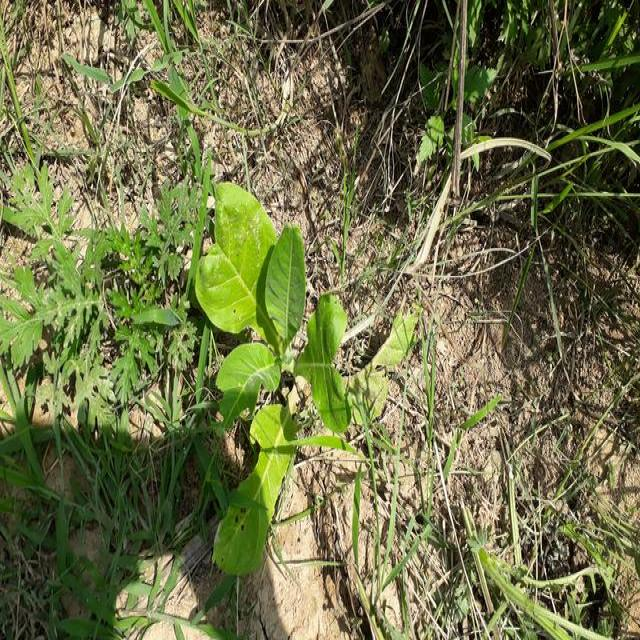crop: (205, 189, 347, 575)
